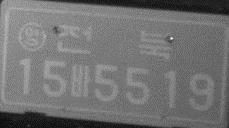1: (13, 56, 40, 97), (158, 68, 183, 110)
5: (125, 65, 152, 106), (93, 62, 119, 102), (42, 60, 66, 98)
9: (188, 71, 214, 112)
바: (69, 63, 90, 98)
영: (17, 21, 46, 53)
전북_D: (55, 22, 173, 59)
